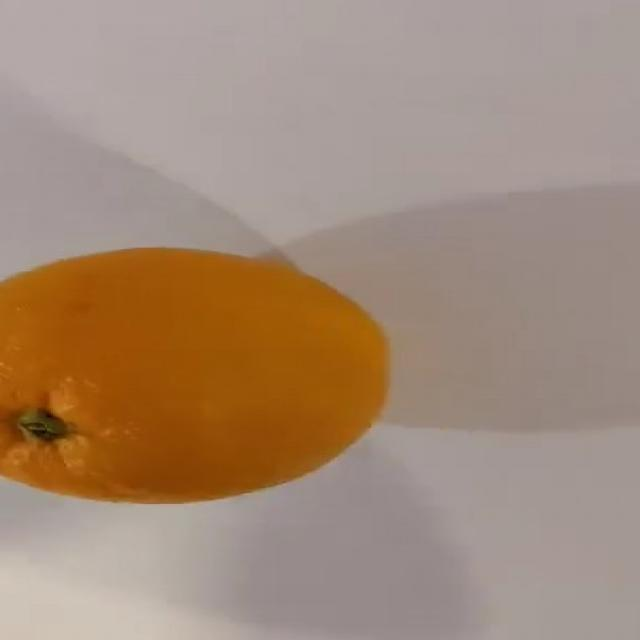Orange: (0, 244, 391, 505)
